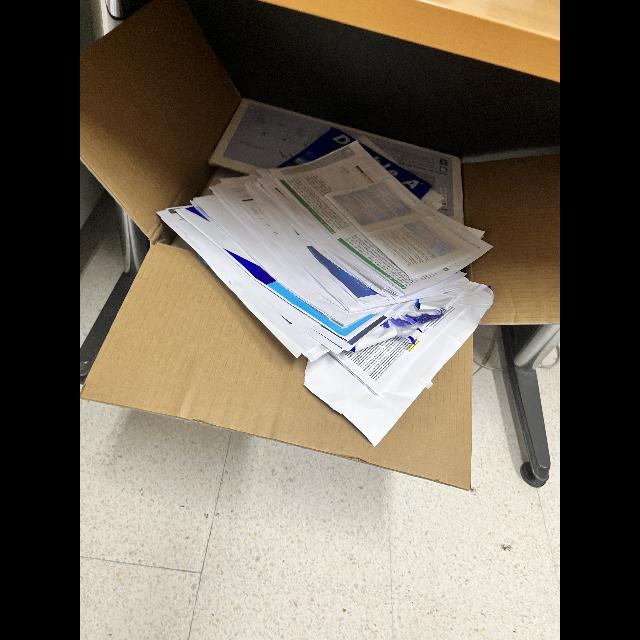reuseable_paper: (160, 141, 492, 439)
